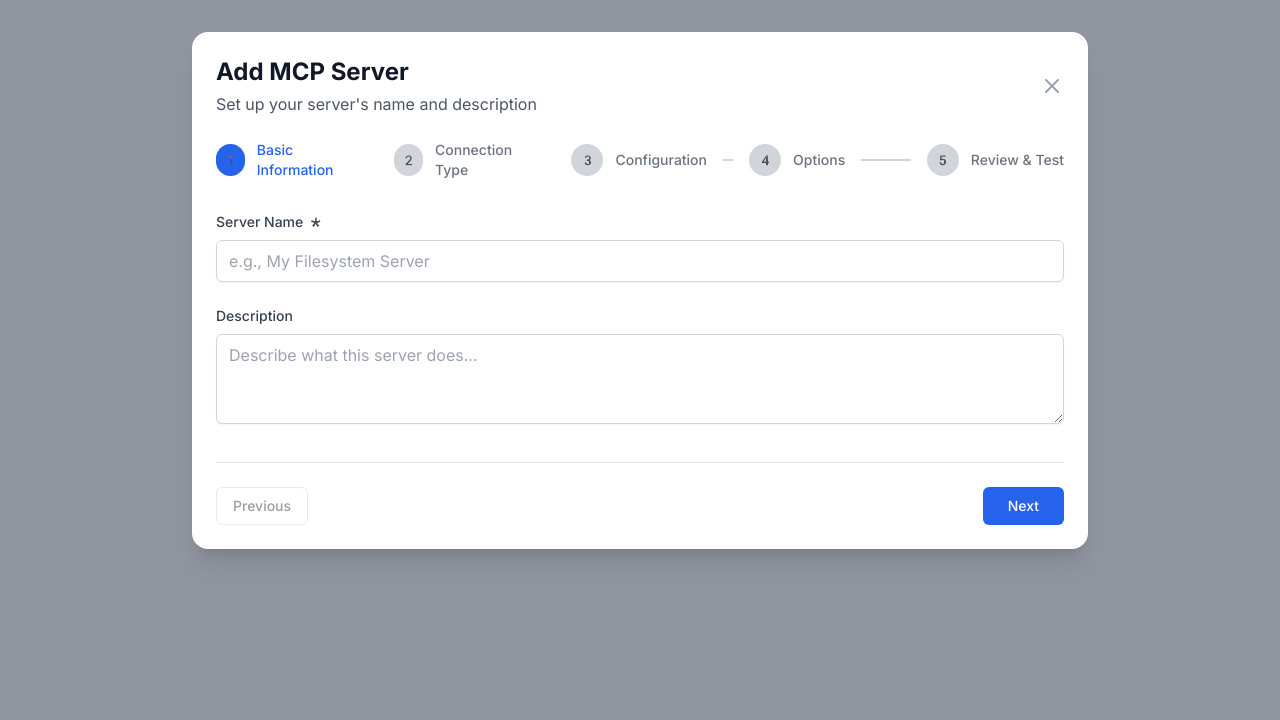
McpServerWizard › Form Validation › validates server name is required
Click the button "Next": (1023, 506) [983, 487, 1064, 525]
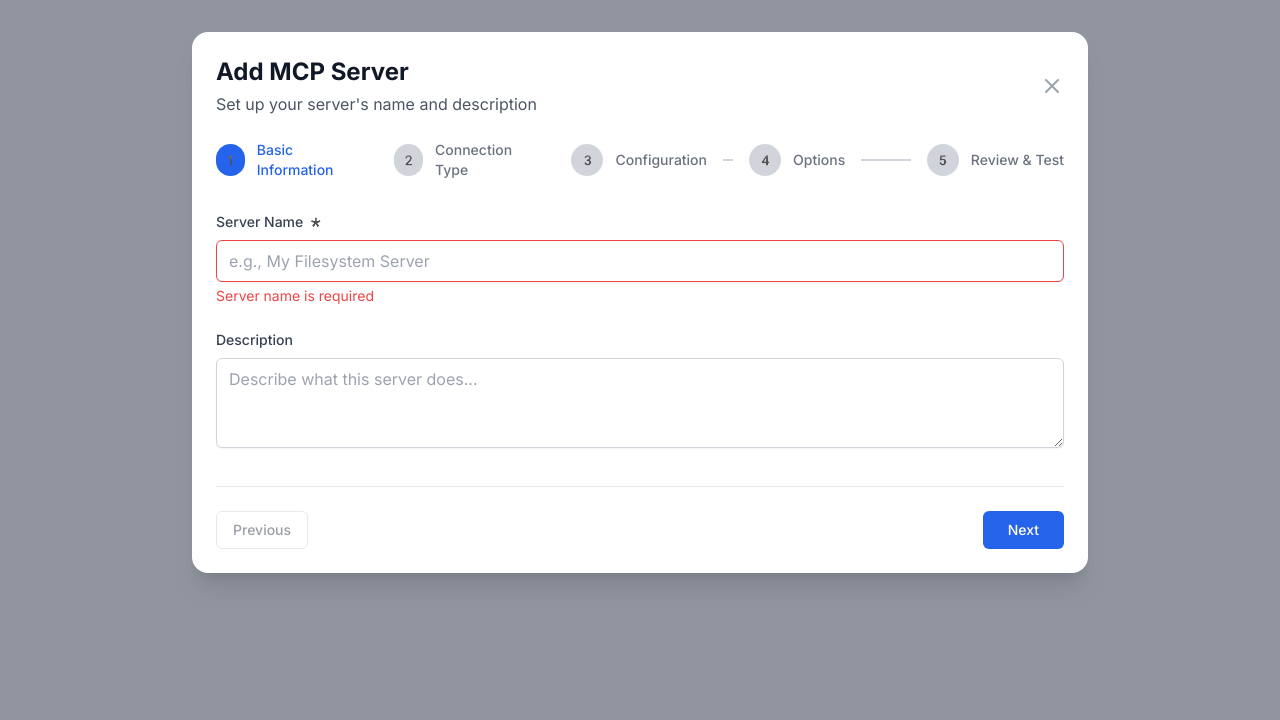
expect the text "Server name is required" is shown: met, box [216, 287, 374, 304]
